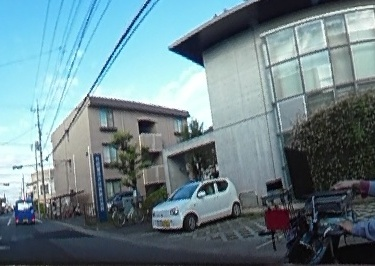person: (352, 74, 375, 266)
